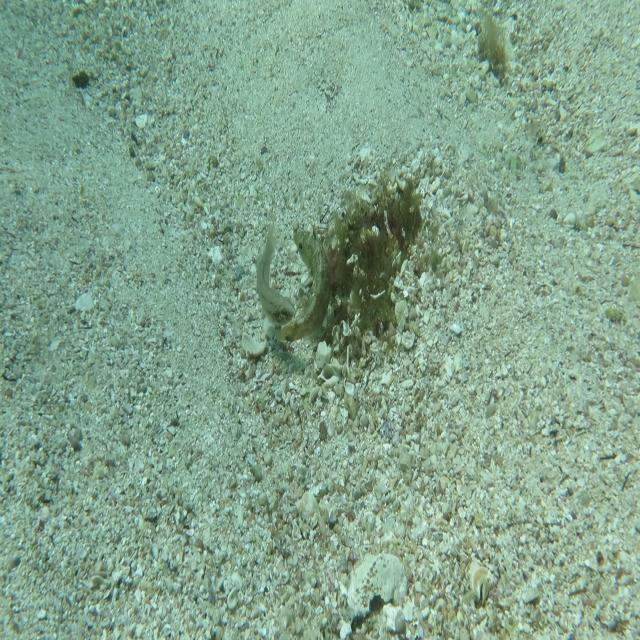DAN_CIRC: (272, 225, 334, 343)
female: (256, 218, 296, 328)
nest: (306, 162, 431, 368)
